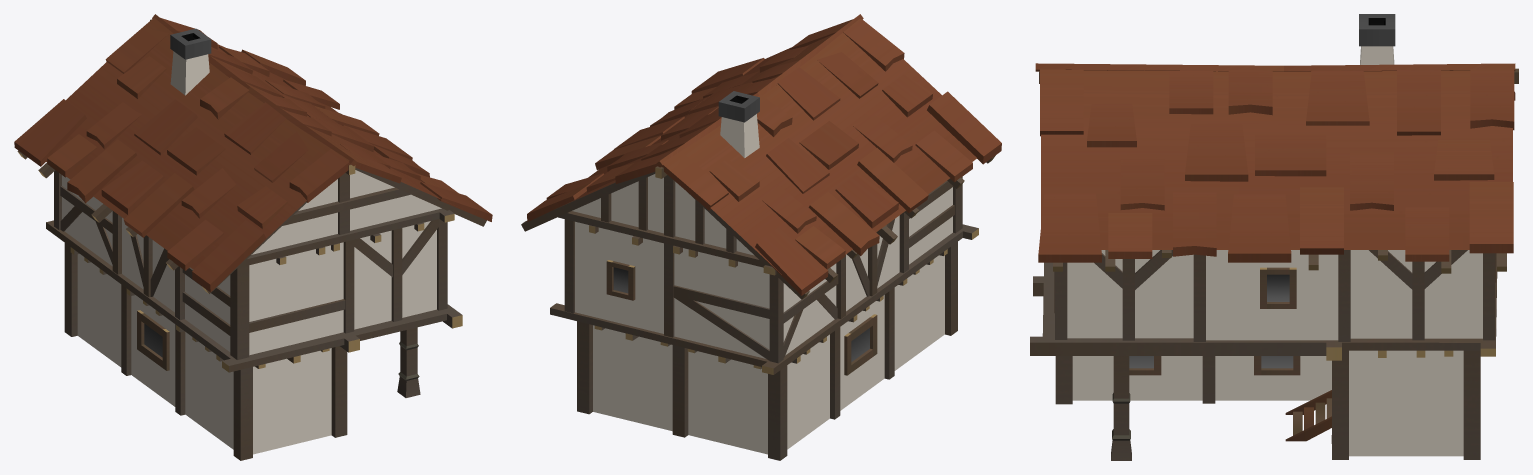
File: House_4.fbx
3 renders of one model, left to right at view 1: azimuth 30°, elevation 25°; view 2: azimuth 150°, elevation 25°; view 3: azimuth 270°, elevation 25°, orthographic. The views are drawn at different scales.
Visible parts, largest first — view 1: polySurface9613; view 2: polySurface9613; view 3: polySurface9613.
Boxes of the visible parts, x1,y1,x2,y2 form: polySurface9613: (14, 14, 492, 460); polySurface9613: (521, 14, 1001, 460); polySurface9613: (1030, 14, 1518, 460).
Size of the model in its own units: 832 by 836 by 1003.
